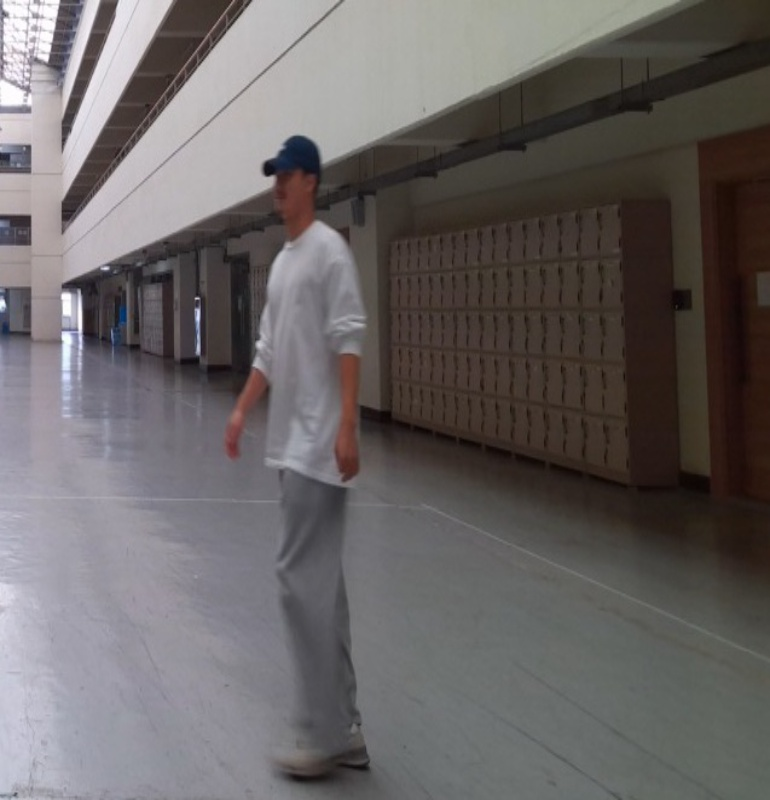person: (224, 135, 373, 773)
